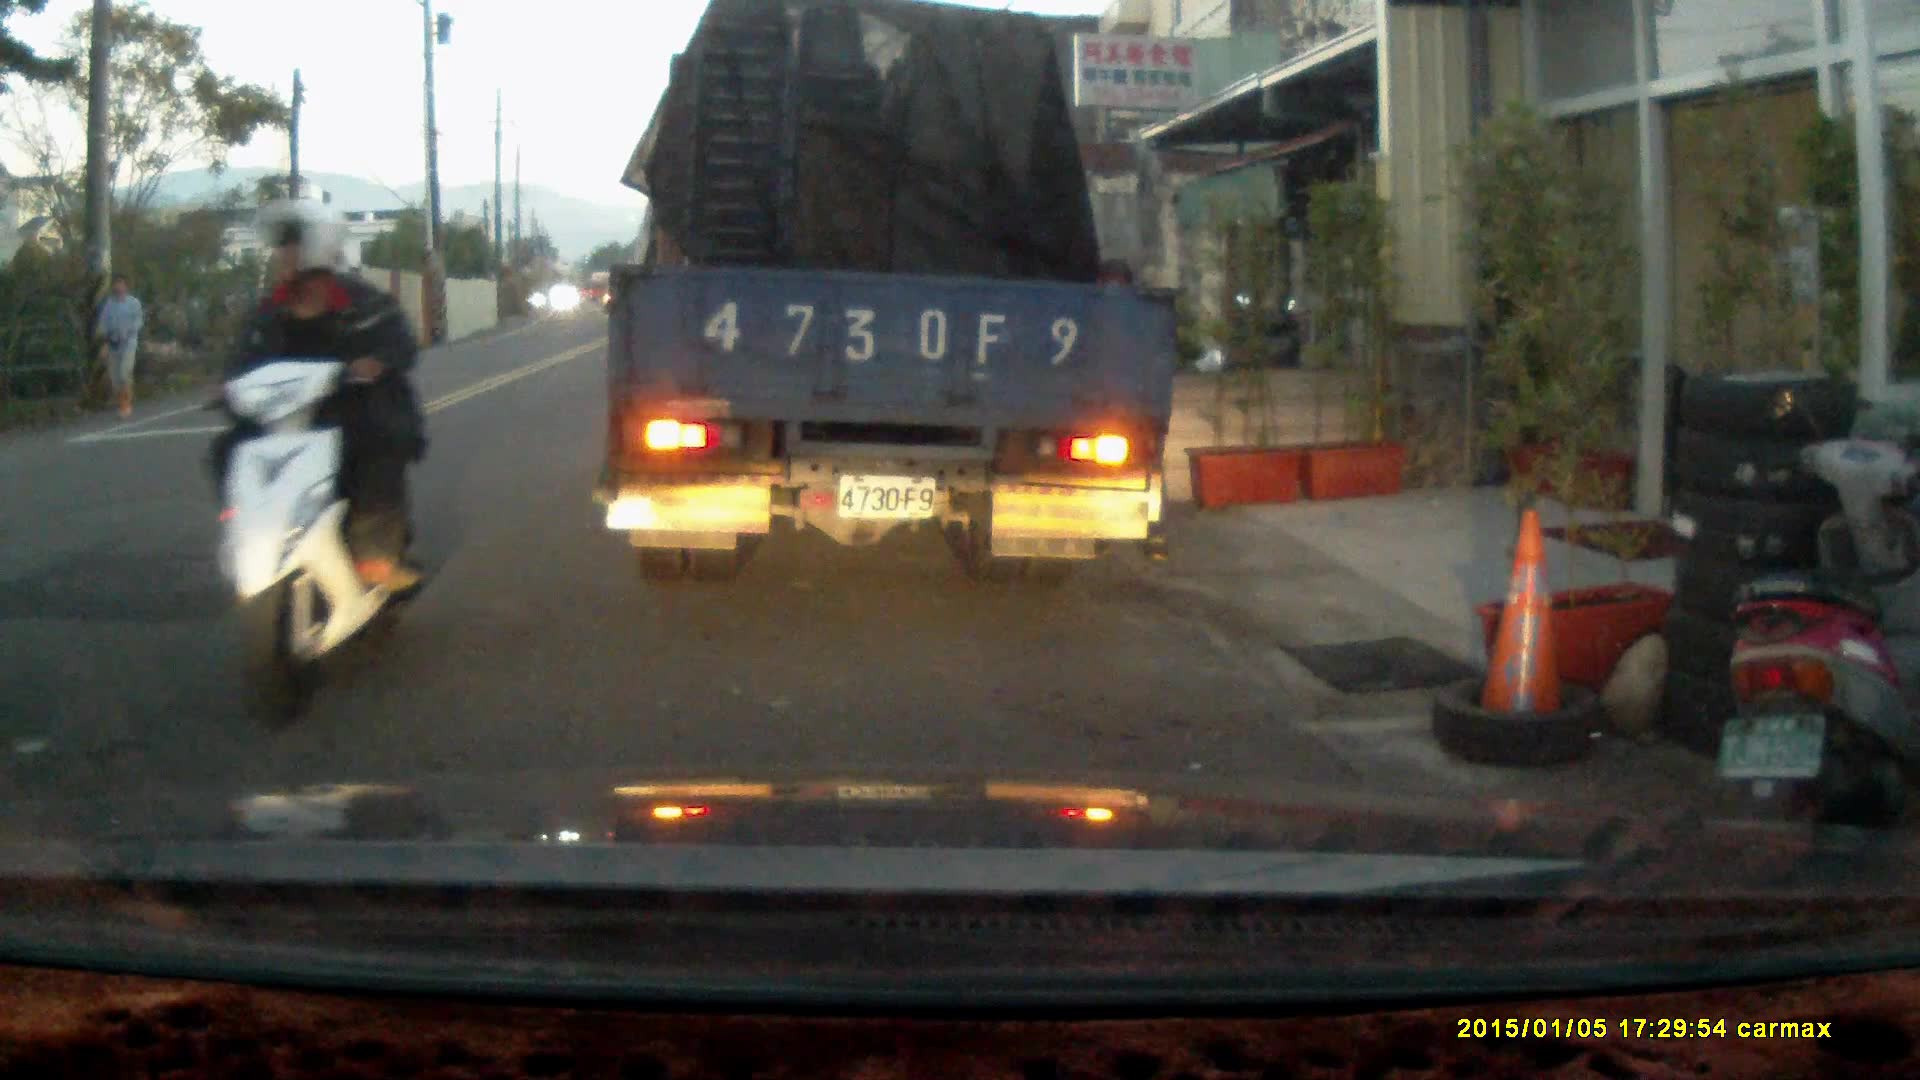pedestrian: (95, 270, 148, 420)
rider: (175, 196, 430, 733)
vehicle: (600, 23, 1187, 572)
